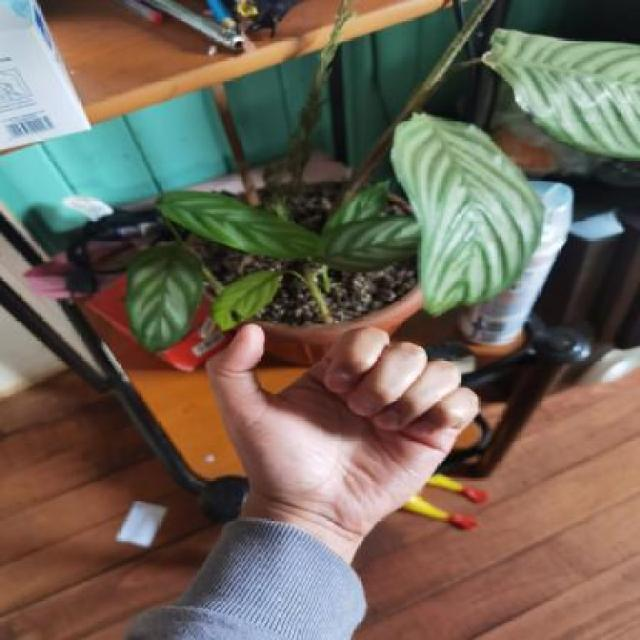E: (173, 293, 493, 552)
